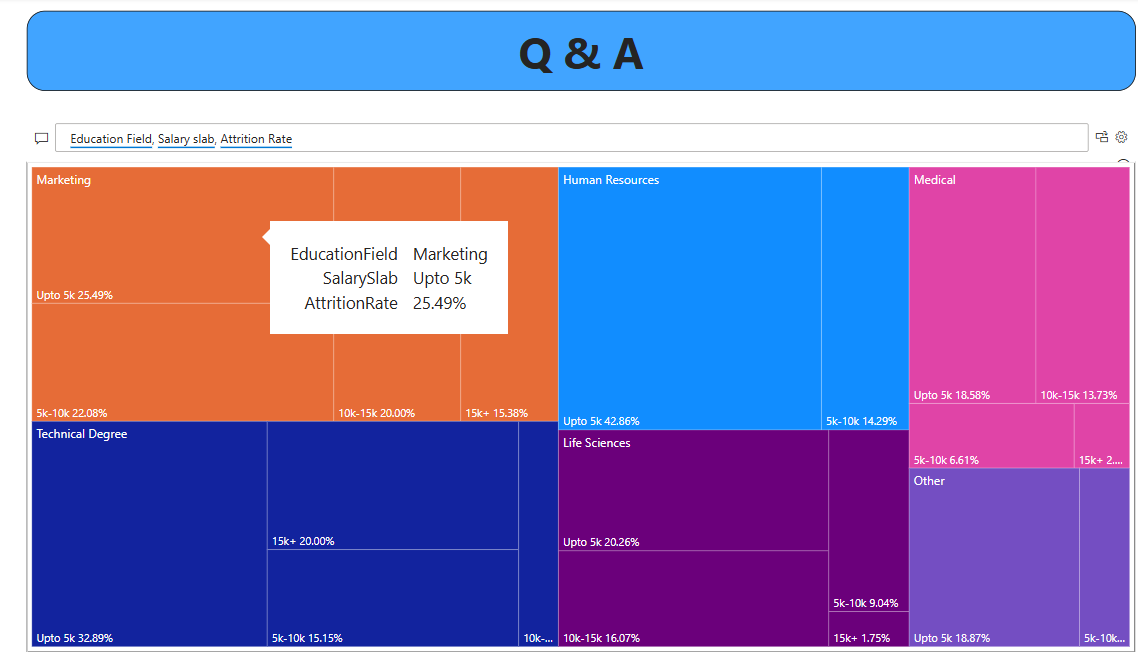

The dashboard page shown, as its layout file describes it:
{"tool":"powerbi","page":{"name":"Q & A","canvas":[1280,720],"ordinal":10},"visuals":[{"type":"textbox","box":[31.4,15.7,1217.3,88.4],"z":0},{"type":"treemap","title":"Education field, Salary Slab, Attrition Rate Tree Map","fields":{"Group":["HR_Analytics.EducationField"],"Values":["HR_Analytics.AttritionRate"],"Details":["HR_Analytics.SalarySlab"]},"box":[31.4,181.4,1217.1,538.6],"z":1000},{"type":"qnaVisual","box":[31.4,114.3,1217.1,67.1],"z":2000}]}

Visuals, with their boxes on the page's 1280x720 design canvas (x1, y1, x2, y2). These are canvas units, not pixel positions in the 1138x652 screenshot, which may show the page scaled, cropped or inside an application window:
textbox: bbox=(31, 16, 1249, 104)
"Education field, Salary Slab, Attrition Rate Tree Map" treemap: bbox=(31, 181, 1248, 720)
qnaVisual: bbox=(31, 114, 1248, 181)
